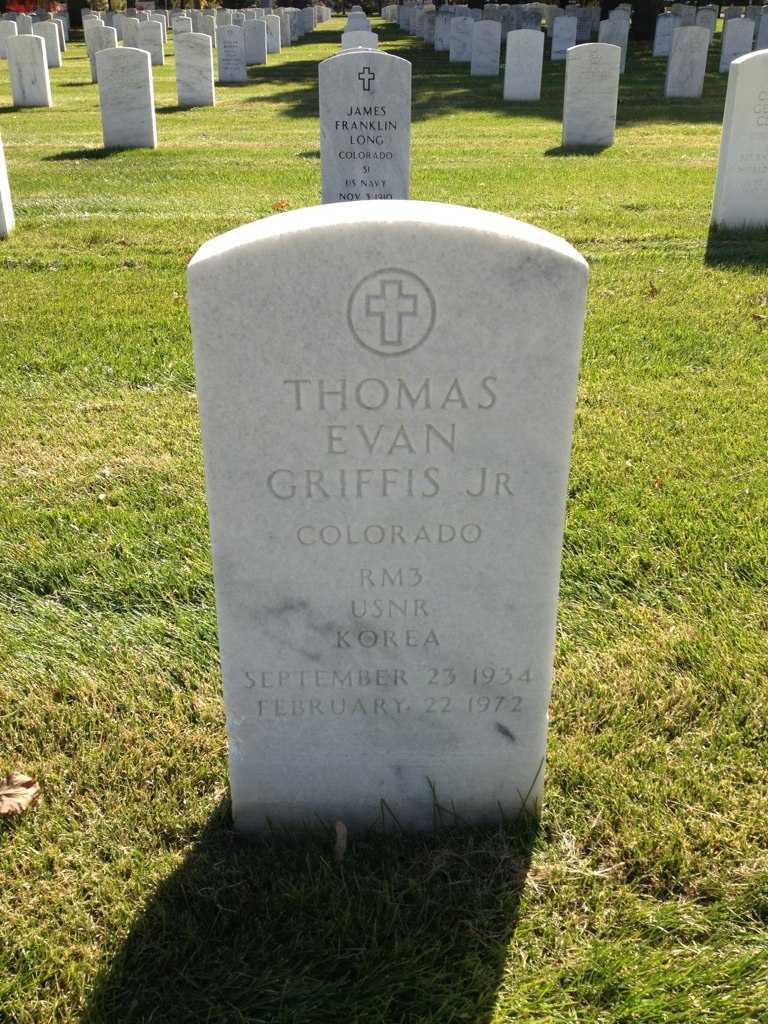military: (181, 203, 597, 849)
